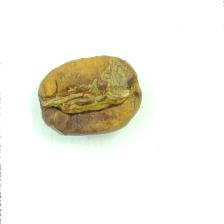NG: (43, 61, 139, 134)
